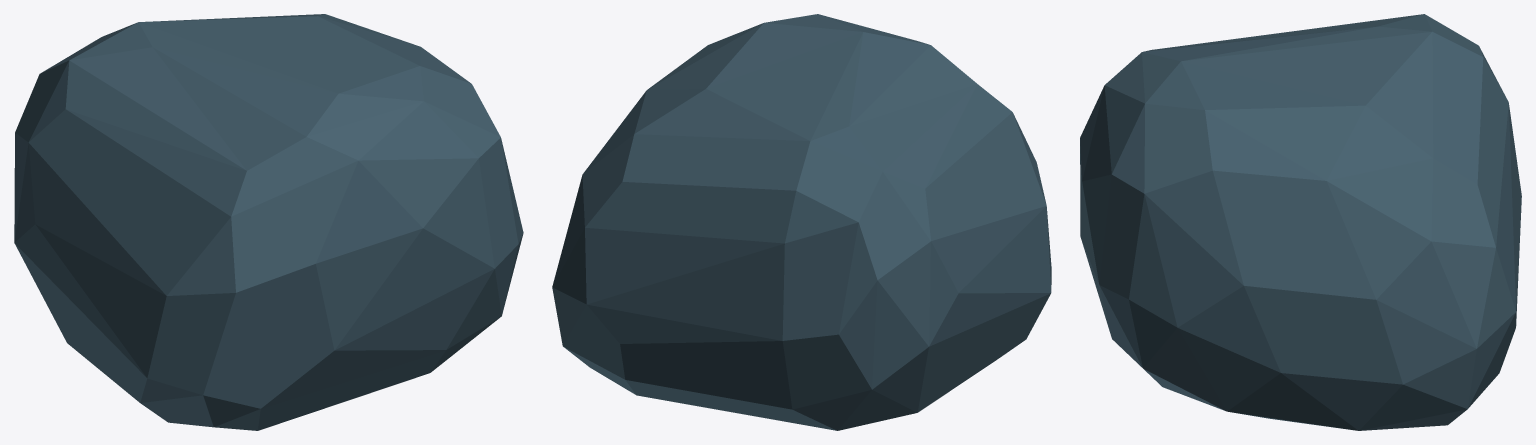
File: test_rock.fbx
3 renders of one model, left to right at view 1: azimuth 30°, elevation 25°; view 2: azimuth 150°, elevation 25°; view 3: azimuth 270°, elevation 25°, orthographic. The views are drawn at different scales.
Visible parts, largest first — view 1: rock big 3; view 2: rock big 3; view 3: rock big 3.
Part boxes in pixels (x1,y1,x2,y2): rock big 3: (14, 14, 523, 430); rock big 3: (552, 14, 1051, 430); rock big 3: (1080, 14, 1521, 430).
Size of the model in its own units: 164 by 158 by 124.
